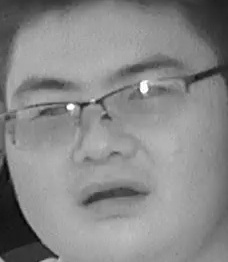glass: (100, 76, 192, 130), (3, 99, 83, 149)
mouth: (79, 176, 149, 218)
